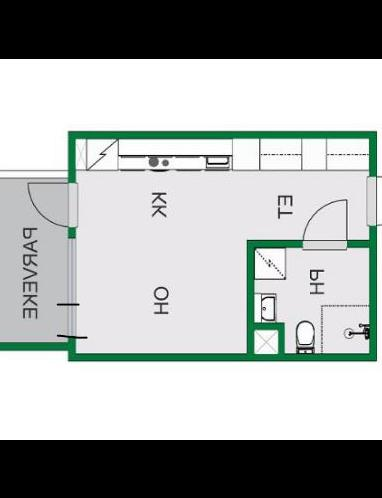bathroom: (253, 245, 372, 356)
door: (24, 178, 80, 229), (300, 196, 347, 250), (365, 172, 382, 229)
perimeter: (66, 129, 378, 359)
window: (67, 234, 82, 305), (67, 301, 82, 342)
